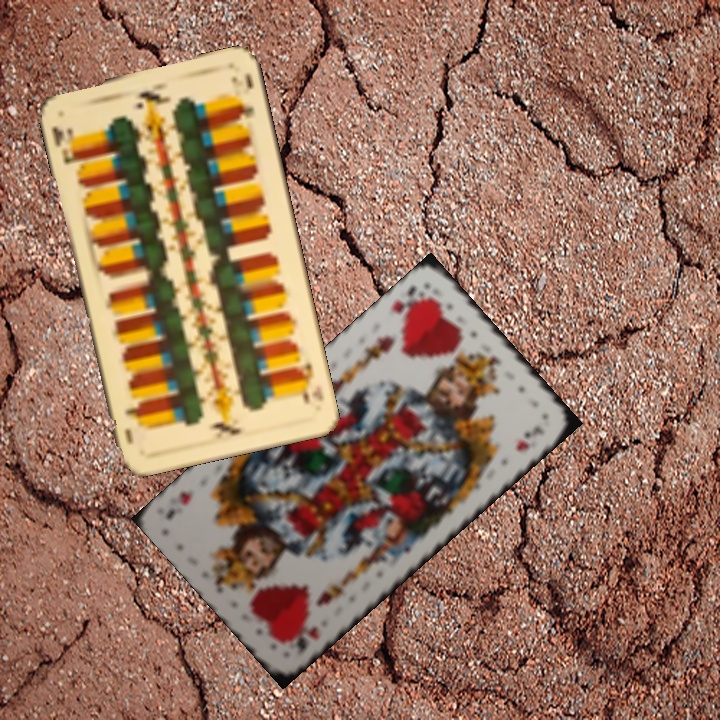E10: (48, 122, 83, 168), (292, 358, 316, 408)
HK: (387, 282, 433, 323), (291, 621, 322, 657)
